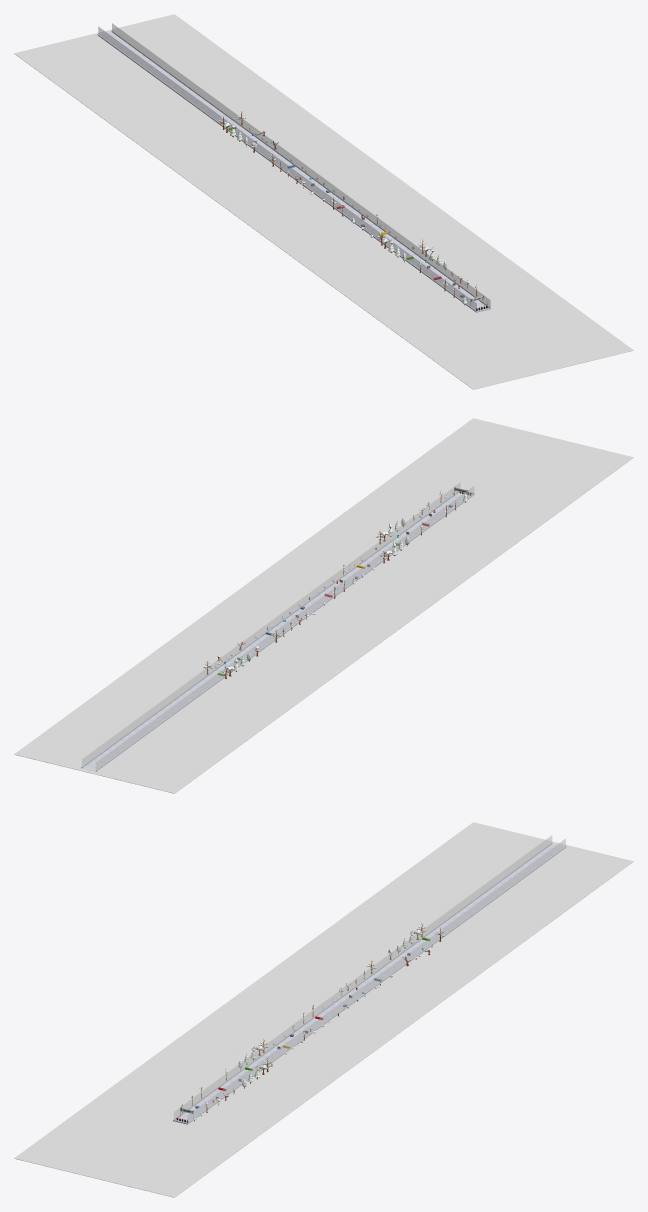
Rendered from map3.glb.
3 views of the same model, one above another, from view 1: azimuth 30°, elevation 25°; view 2: azimuth 150°, elevation 25°; view 3: azimuth 330°, elevation 25° (orthographic).
Parts seen in each view (by area): view 1: ground, snowblock-area, left_ground.002, right_ground.001, left_ground, right_ground; view 2: ground, snowblock-area, left_ground.002, right_ground.001, left_ground, right_ground; view 3: ground, snowblock-area, right_ground.001, left_ground.002, right_ground, left_ground.
Boxes of the visible parts, box(x1,y1,x2,y2) form: ground: box(14, 14, 633, 389); snowblock-area: box(100, 32, 488, 310); left_ground.002: box(112, 23, 490, 307); right_ground.001: box(98, 26, 476, 310); left_ground: box(111, 31, 490, 307); right_ground: box(97, 34, 476, 312); ground: box(14, 418, 633, 793); snowblock-area: box(82, 492, 472, 771); left_ground.002: box(82, 482, 460, 766); right_ground.001: box(95, 486, 474, 769); left_ground: box(81, 491, 459, 768); right_ground: box(95, 493, 474, 771); ground: box(14, 822, 633, 1197); snowblock-area: box(175, 844, 563, 1122); right_ground.001: box(173, 835, 552, 1118); left_ground.002: box(187, 838, 565, 1122); right_ground: box(173, 843, 552, 1119); left_ground: box(187, 846, 566, 1124).
Bounding box in the file's own units: 240 × 24.84 × 1189.
9 materials, 7 textured.
